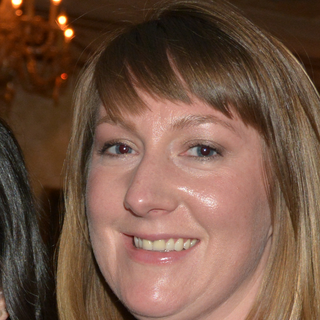eye: (179, 139, 228, 164), (96, 136, 141, 162)
